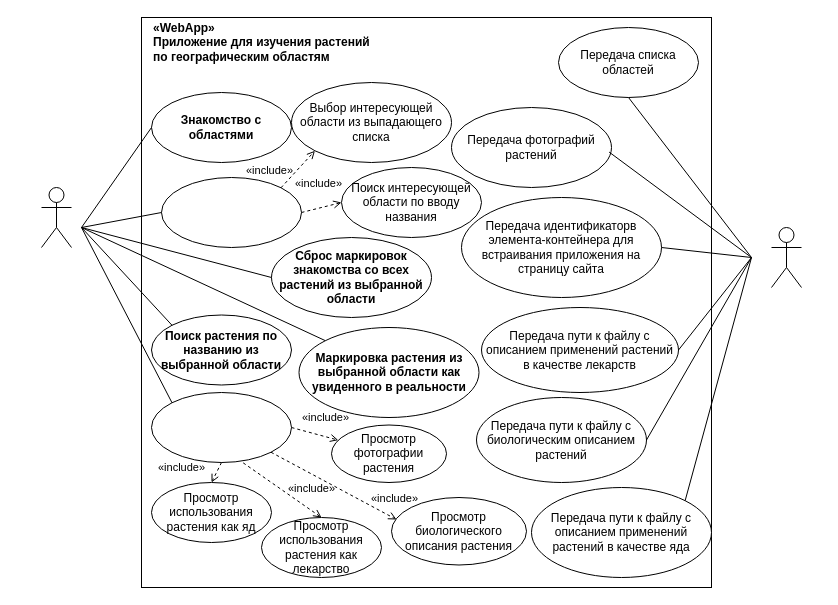
The diagram is 838 pixels wide and 605 high, and some of its shapes have lost their labels. The box of each missing label's shape, as (x1, y1, x2, y2) in pixels:
Выбор интересующей области: (160, 176, 302, 248)
Знакомство с растениями из выбранной области: (150, 392, 292, 462)
Пользователь: (40, 186, 72, 248)
Разработчик: (770, 226, 802, 288)
